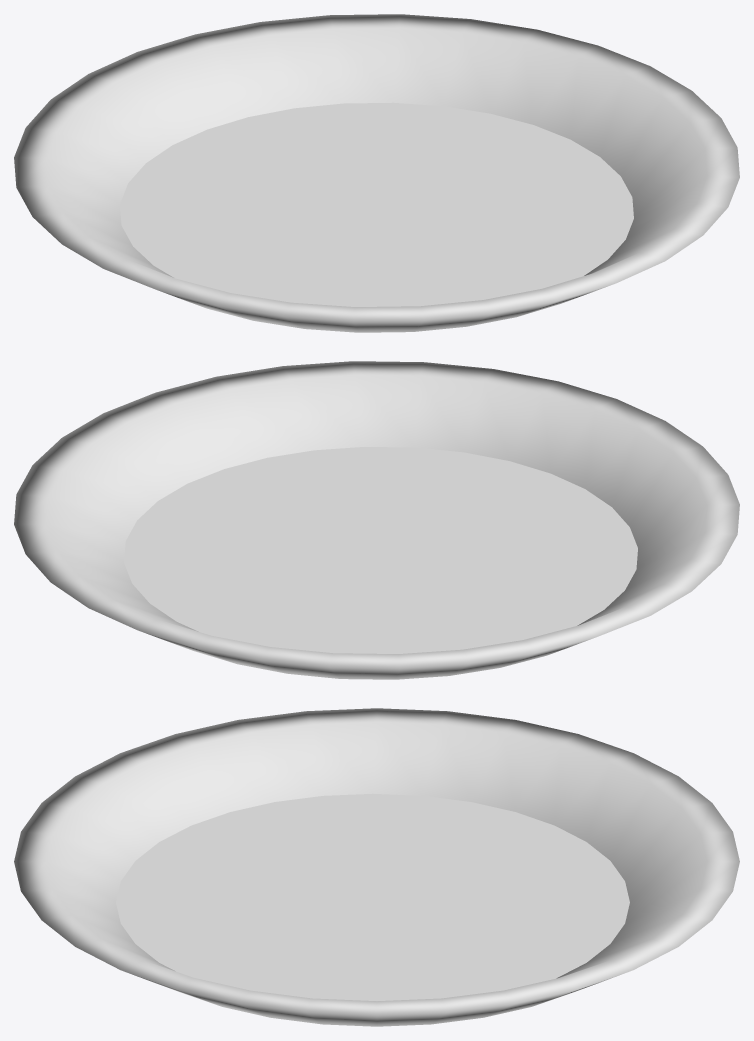
Rendered from Plato 1.fbx.
The picture shows the model from 3 angles, top to bottom: view 1: azimuth 30°, elevation 25°; view 2: azimuth 150°, elevation 25°; view 3: azimuth 270°, elevation 25°; orthographic projection.
Visible parts, largest first — view 1: Plato; view 2: Plato; view 3: Plato.
Part boxes in pixels (left/top/right/bottom): Plato: left=14, top=14, right=739, bottom=332; Plato: left=14, top=361, right=739, bottom=679; Plato: left=14, top=708, right=739, bottom=1026.
Bounding box in the file's own units: 261 × 29.68 × 261.
